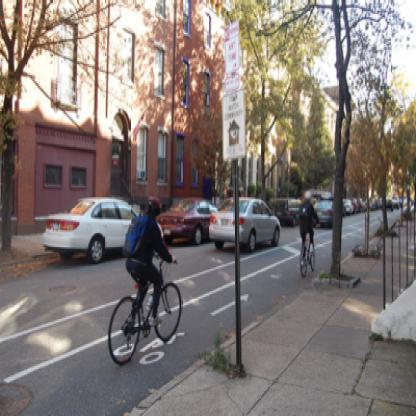Helmet: (135, 192, 164, 223), (300, 186, 316, 205)
